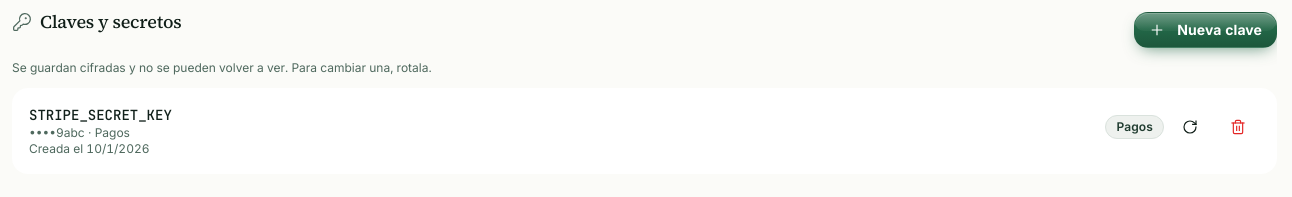
Test case: SecretsSection: rotar y revocar › revocar exige confirmación: el primer clic NO revoca
This screenshot has width=1292, height=197.
Later steps or results of the test are not shown.
Click the button named "Revocar STRIPE_SECRET_KEY". click: (1238, 127)
box: [1216,105,1260,149]
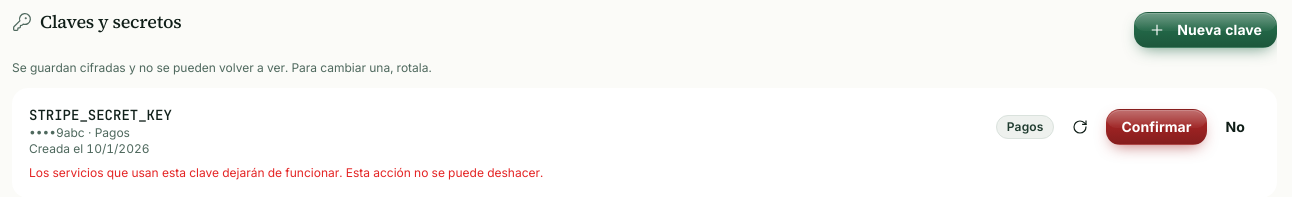
Check: the text "dejarán de funcionar" is shown, box [29,165,543,180]
